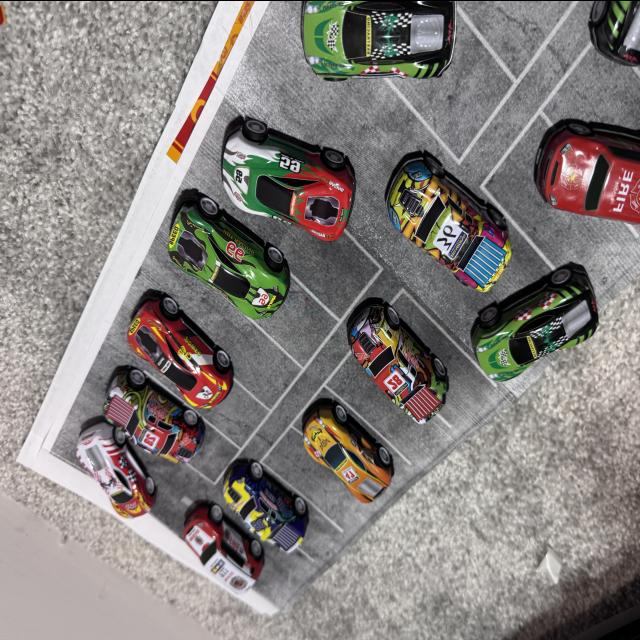car: (216, 72, 360, 262), (287, 0, 524, 113), (334, 271, 458, 461), (161, 195, 290, 371), (372, 129, 506, 293), (89, 341, 211, 517), (122, 281, 242, 437), (210, 428, 307, 580), (445, 296, 628, 374), (165, 476, 263, 620), (302, 368, 400, 510), (520, 108, 640, 216), (55, 400, 146, 522), (580, 0, 640, 106)
